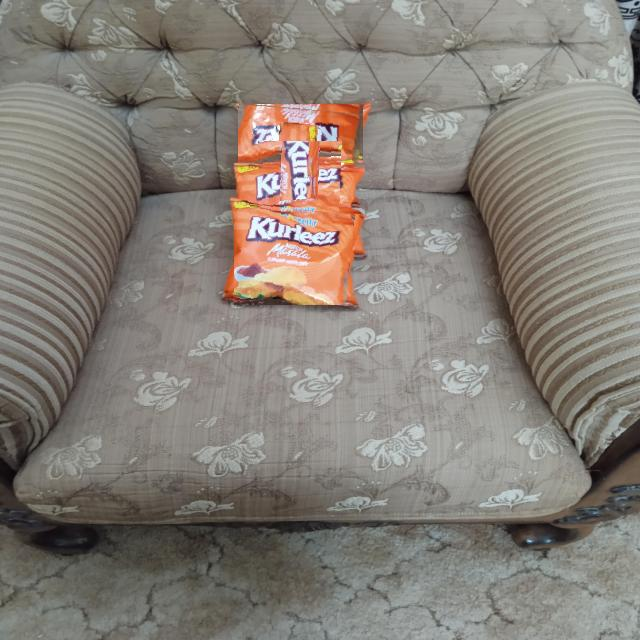Plastic: (234, 203, 355, 305), (238, 103, 363, 163), (258, 141, 342, 224)
